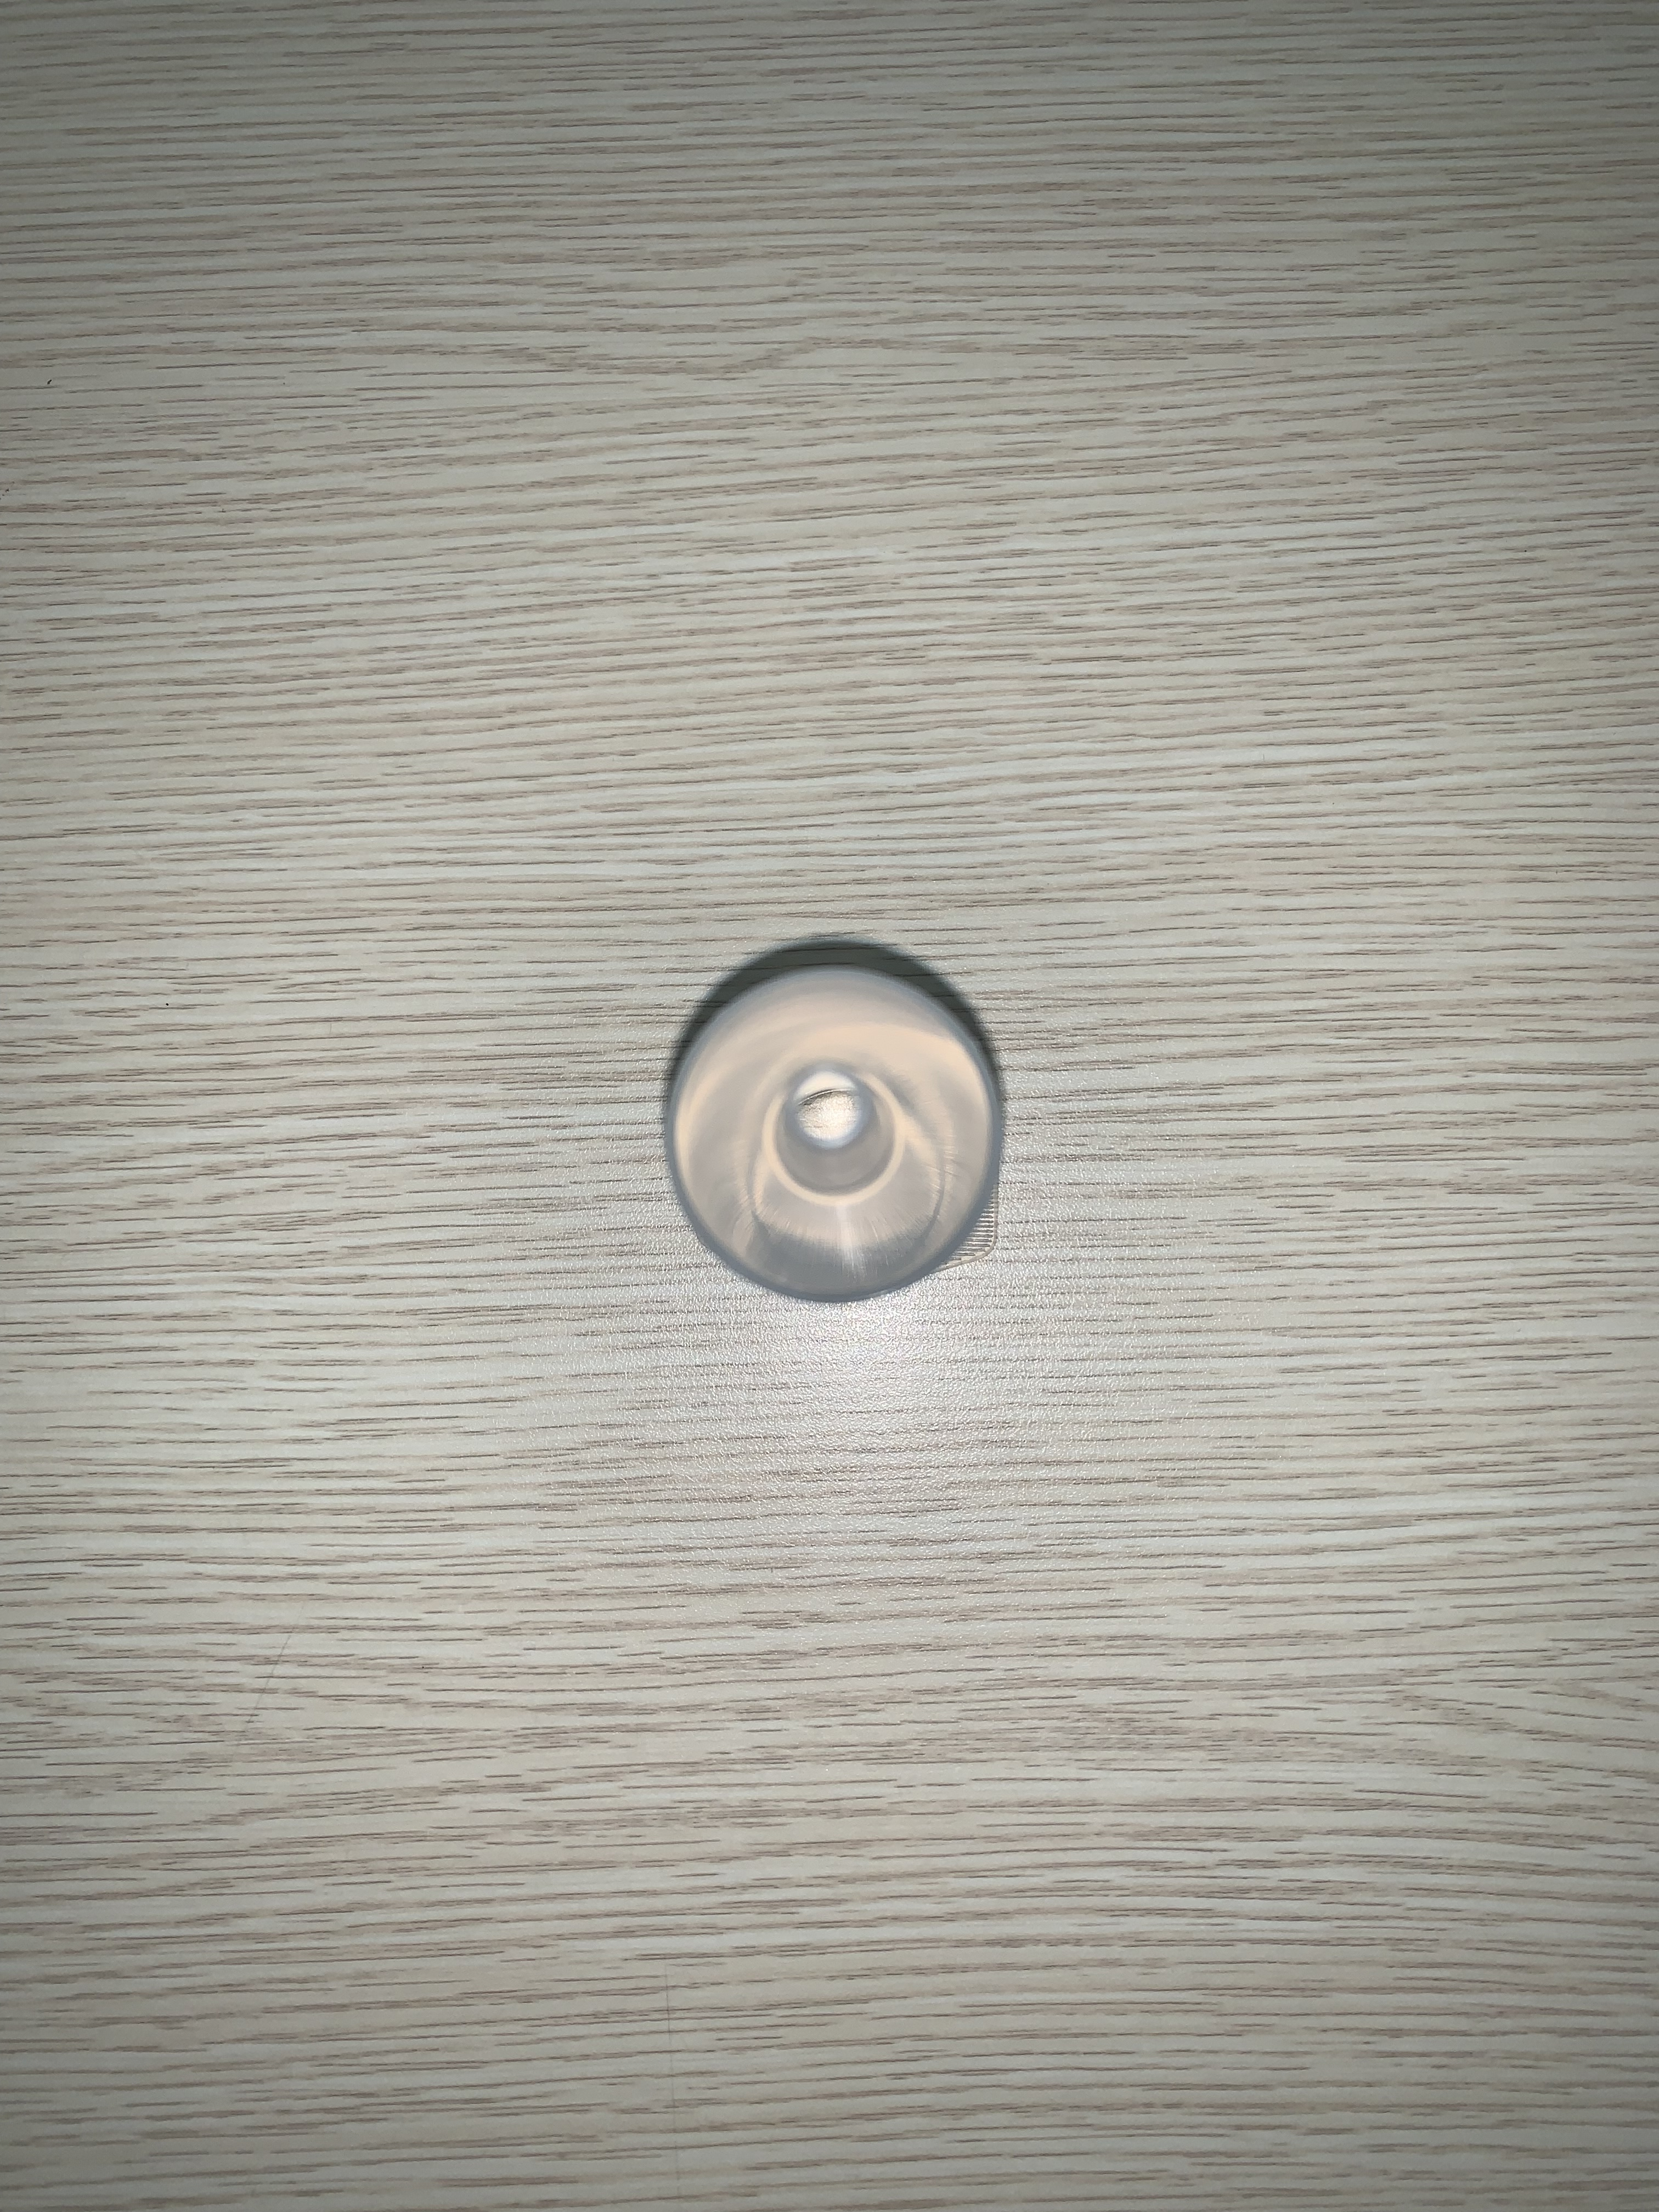syringe: (652, 946, 1002, 1305)
